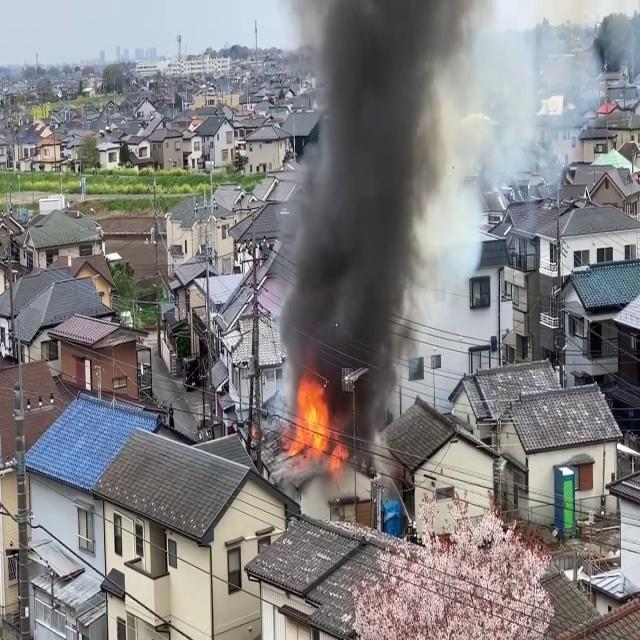Fire: (284, 375, 344, 461)
Smoke: (271, 0, 502, 412)
